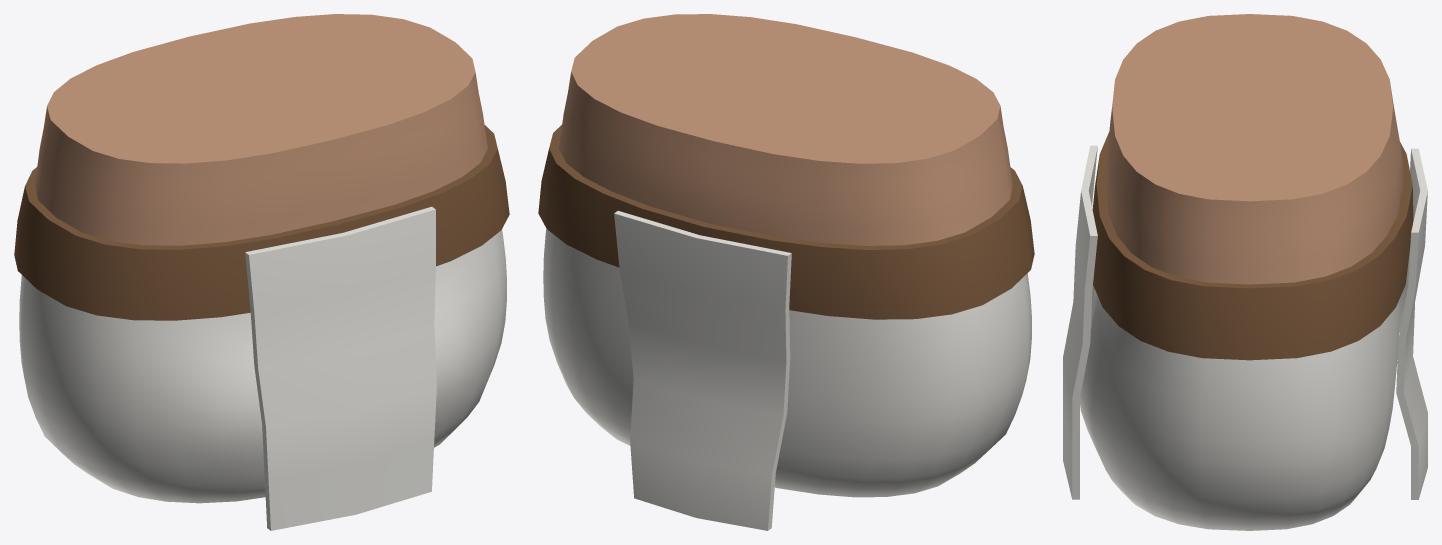
File: pelvis.glb
3 views of the same model, side by side, from view 1: azimuth 30°, elevation 25°; view 2: azimuth 150°, elevation 25°; view 3: azimuth 270°, elevation 25° (orthographic).
Visible parts, largest first — view 1: OUT; view 2: OUT; view 3: OUT.
Boxes of the visible parts, box(x1,y1,x2,y2) form: OUT: box(14, 14, 509, 530); OUT: box(538, 14, 1034, 530); OUT: box(1063, 14, 1427, 530).
Size of the model in its own units: 0.3363 by 0.26 by 0.2387.
